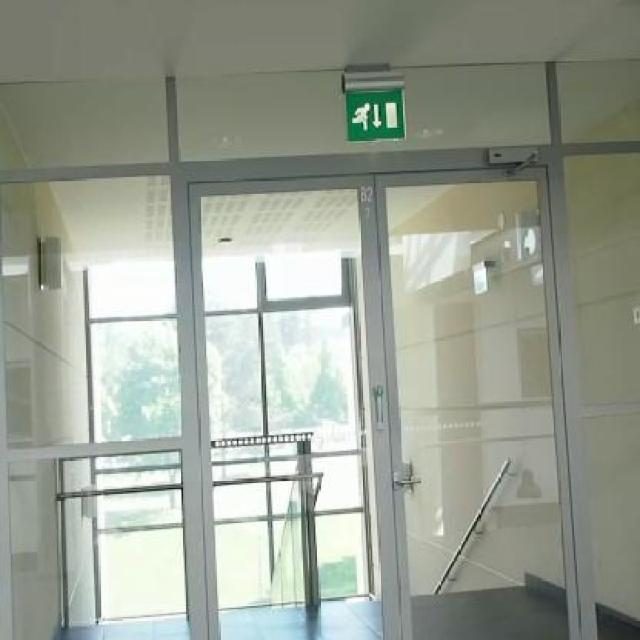emergency_exit: (344, 84, 407, 143)
